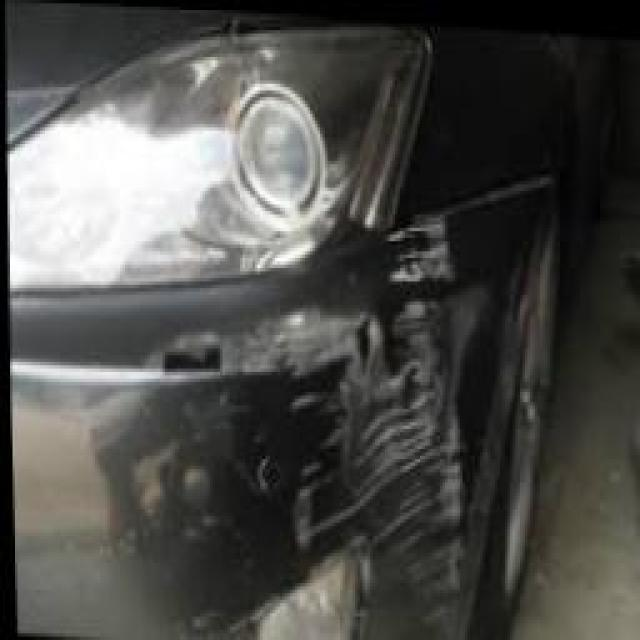Bumper: (152, 166, 548, 640)
